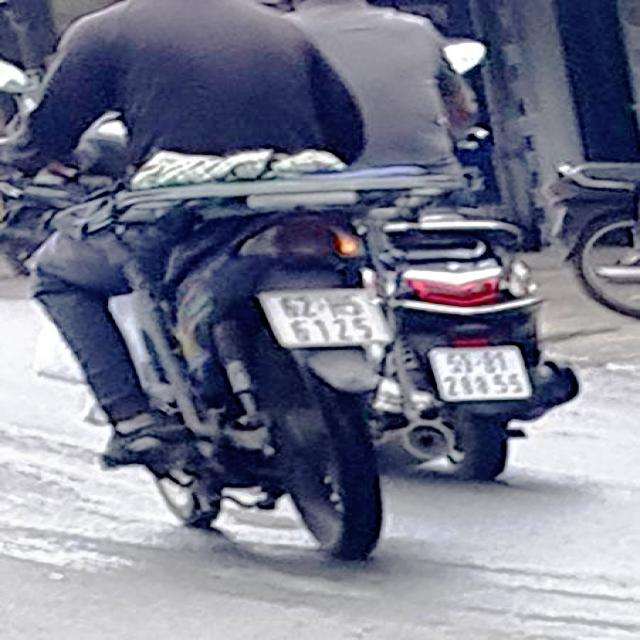license_plate: (263, 294, 399, 349), (429, 345, 534, 403)
